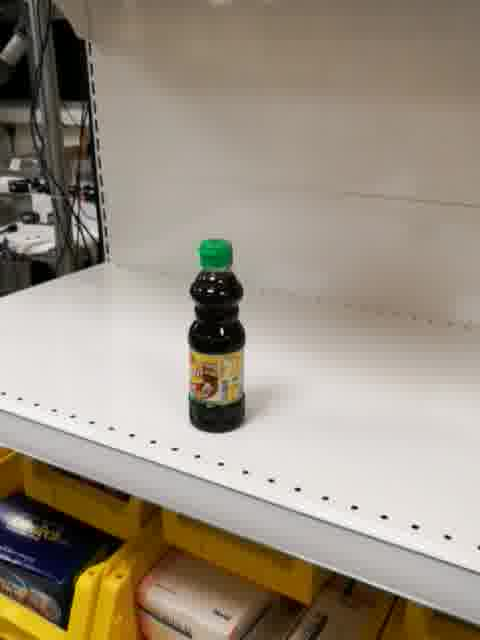cookingoil: (186, 234, 247, 435)
